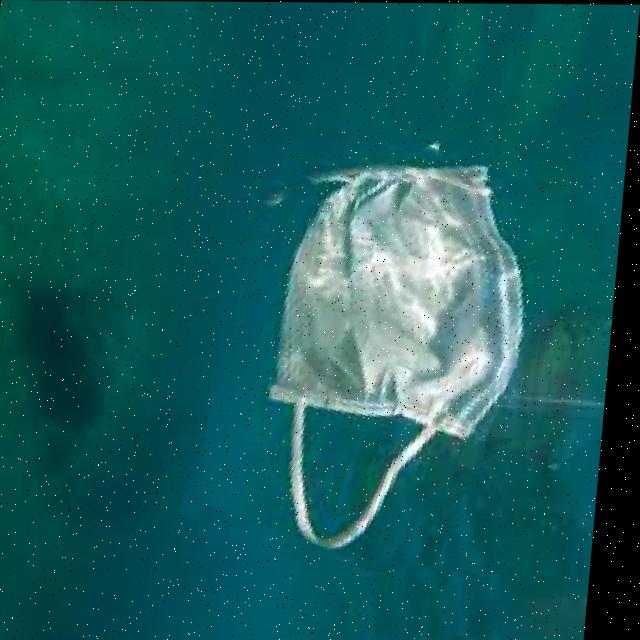litter: (204, 137, 566, 574)
